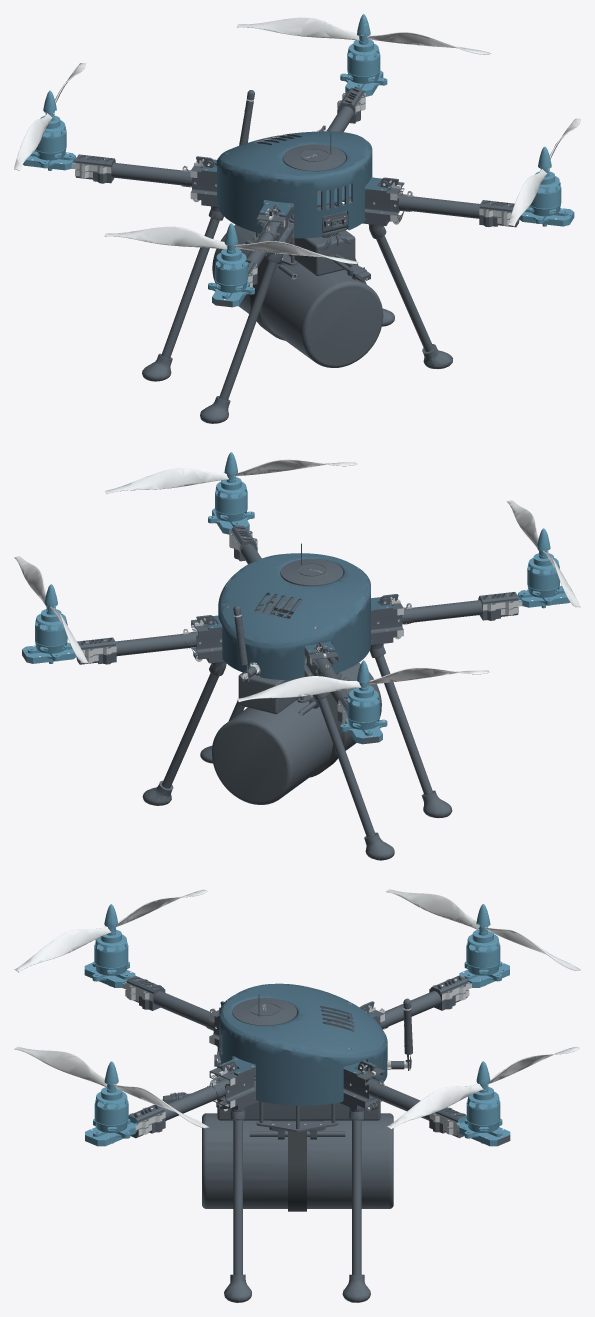
Rendered from quadcopter.glb.
The picture shows the model from 3 angles, top to bottom: view 1: azimuth 30°, elevation 25°; view 2: azimuth 150°, elevation 25°; view 3: azimuth 270°, elevation 25°; orthographic projection. The views are drawn at different scales.
Visible parts, largest first — view 1: frame, shell, motor, prop0, prop2, metal, prop1, prop3; view 2: frame, shell, motor, prop1, prop3, metal, prop2, prop0; view 3: frame, shell, motor, metal, prop2, prop0, prop1, prop3, gimbal.
Boxes of the visible parts, box(x1,y1,x2,y2) form: frame: box(75, 87, 519, 423); shell: box(202, 131, 390, 238); motor: box(23, 14, 574, 307); prop0: box(104, 226, 358, 263); prop2: box(236, 17, 490, 54); metal: box(14, 53, 518, 288); prop1: box(14, 63, 86, 170); prop3: box(508, 118, 580, 226); frame: box(22, 525, 518, 860); shell: box(208, 553, 392, 679); motor: box(22, 452, 569, 744); prop1: box(237, 667, 489, 702); prop3: box(105, 459, 357, 494); metal: box(80, 491, 580, 725); prop2: box(14, 556, 88, 663); prop0: box(506, 500, 580, 607); frame: box(125, 975, 510, 1302); shell: box(218, 983, 387, 1105); motor: box(84, 904, 510, 1146); metal: box(14, 969, 580, 1135); prop2: box(387, 1047, 579, 1129); prop0: box(15, 889, 207, 971); prop1: box(386, 889, 579, 970); prop3: box(14, 1046, 208, 1128); gimbal: box(288, 1130, 306, 1211).
Size of the model in its own units: 0.5913 by 0.2982 by 0.5911.
2 materials, 2 textured.
